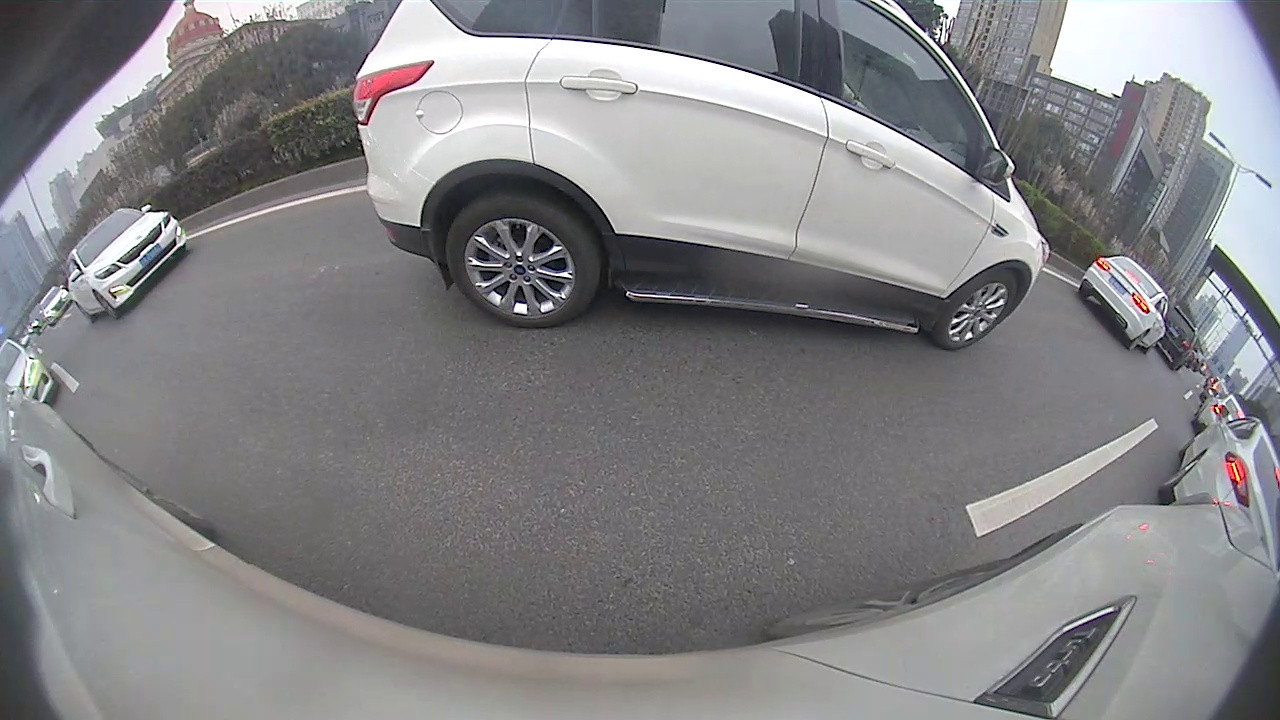car: (345, 0, 1051, 353), (1156, 403, 1279, 564), (61, 202, 190, 323), (1076, 254, 1174, 354), (1, 335, 63, 410), (1162, 304, 1201, 372)
front: (933, 268, 1019, 354), (92, 292, 122, 320)
rear: (445, 195, 604, 329), (1130, 329, 1150, 353)
